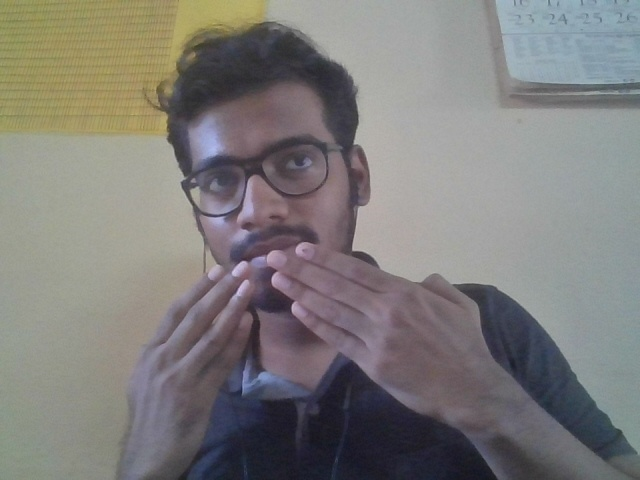ThankYou: (123, 242, 501, 440)
